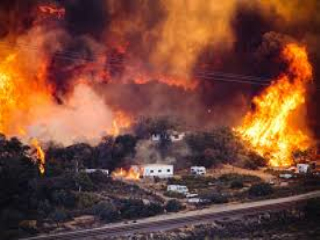fire: (2, 37, 79, 165), (242, 43, 315, 170)
smoke: (50, 92, 123, 145)
